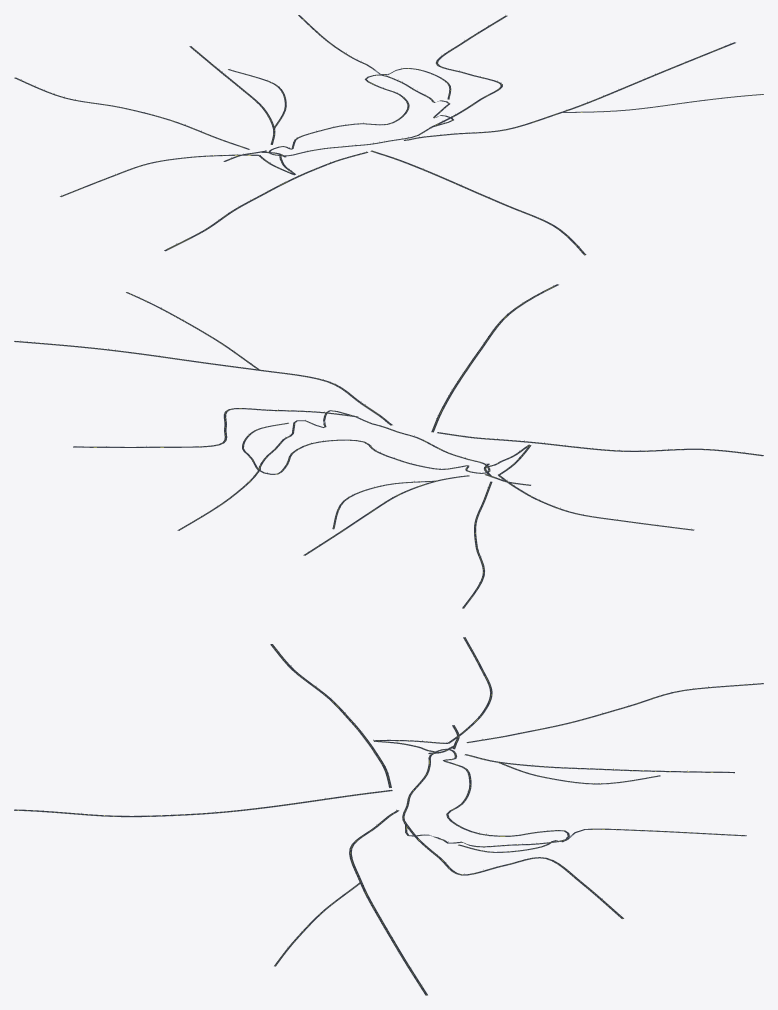
Rendered from roads_ring0.glb.
3 renders of one model, top to bottom at view 1: azimuth 30°, elevation 25°; view 2: azimuth 150°, elevation 25°; view 3: azimuth 270°, elevation 25°, orthographic. The views are drawn at different scales.
Parts seen in each view (by area): view 1: roads_ring0_sidewalk_curbs, road_tran_quoc_toan, road_tran_hung_dao_hung_vuong, road_ba_thang_tu_deo_prenn, road_yersin_quang_trung, road_tran_phu; view 2: roads_ring0_sidewalk_curbs, road_tran_quoc_toan, road_tran_hung_dao_hung_vuong, road_tran_phu; view 3: roads_ring0_sidewalk_curbs, road_tran_quoc_toan, road_ba_thang_tu_deo_prenn, road_tran_hung_dao_hung_vuong.
Part boxes in pixels (x1,y1,x2,y2): roads_ring0_sidewalk_curbs: [14, 15, 763, 255]; road_tran_quoc_toan: [268, 74, 453, 155]; road_tran_hung_dao_hung_vuong: [404, 42, 735, 140]; road_ba_thang_tu_deo_prenn: [370, 150, 585, 255]; road_yersin_quang_trung: [429, 15, 507, 128]; road_tran_phu: [164, 152, 367, 250]; roads_ring0_sidewalk_curbs: [15, 285, 762, 608]; road_tran_quoc_toan: [259, 410, 490, 474]; road_tran_hung_dao_hung_vuong: [14, 341, 392, 425]; road_tran_phu: [437, 432, 763, 455]; roads_ring0_sidewalk_curbs: [14, 637, 763, 995]; road_tran_quoc_toan: [402, 749, 569, 847]; road_ba_thang_tu_deo_prenn: [14, 790, 392, 816]; road_tran_hung_dao_hung_vuong: [349, 810, 427, 995].
Size of the model in its own units: 5104 by 102 by 4433.
